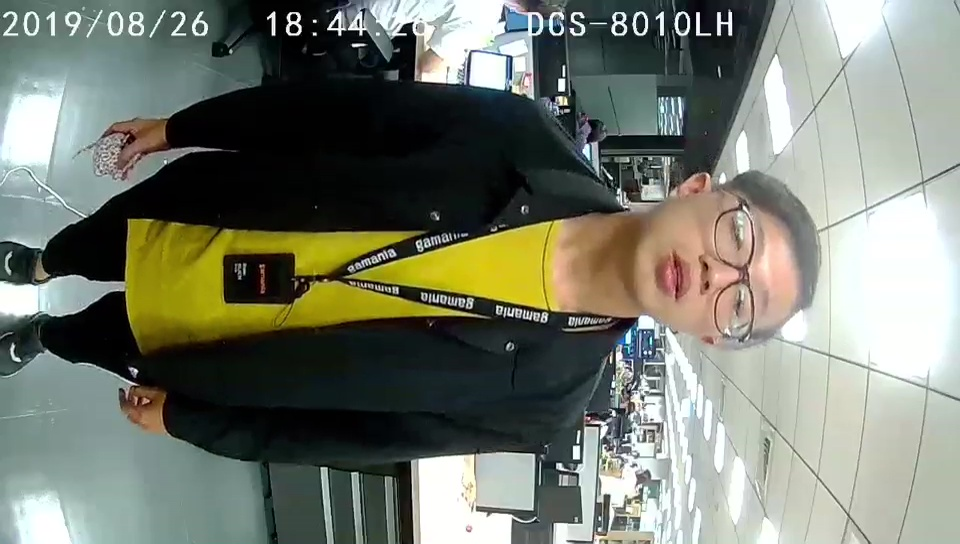pig: (93, 129, 137, 184)
